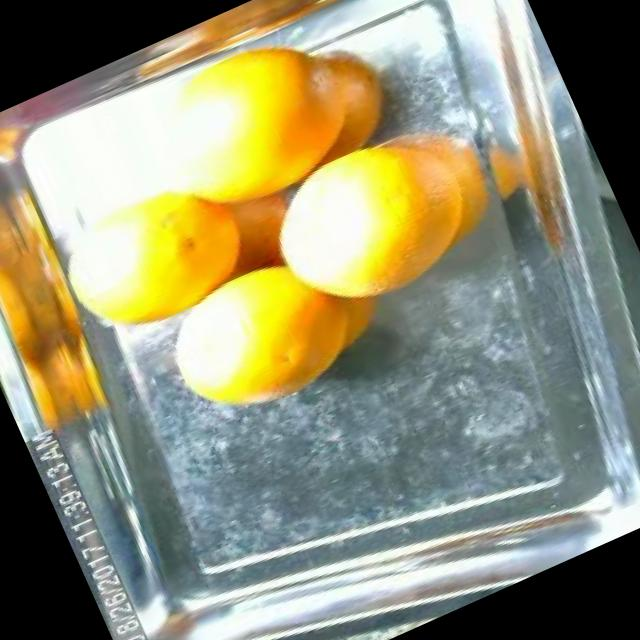Fruit: (25, 136, 277, 368)
